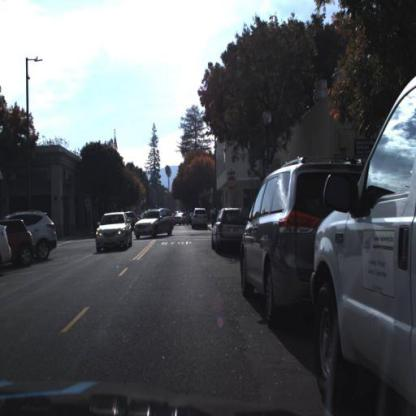car: (240, 153, 365, 327), (234, 150, 320, 335), (209, 199, 240, 261), (95, 209, 134, 256), (134, 205, 177, 241), (33, 209, 59, 264), (191, 203, 211, 235)
